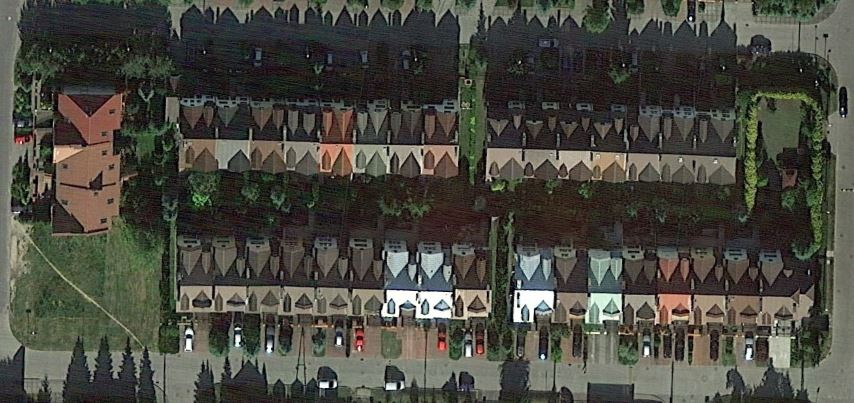terrace house: (169, 229, 502, 325), (507, 237, 822, 336), (170, 88, 470, 183), (478, 93, 746, 192), (43, 80, 128, 239)
